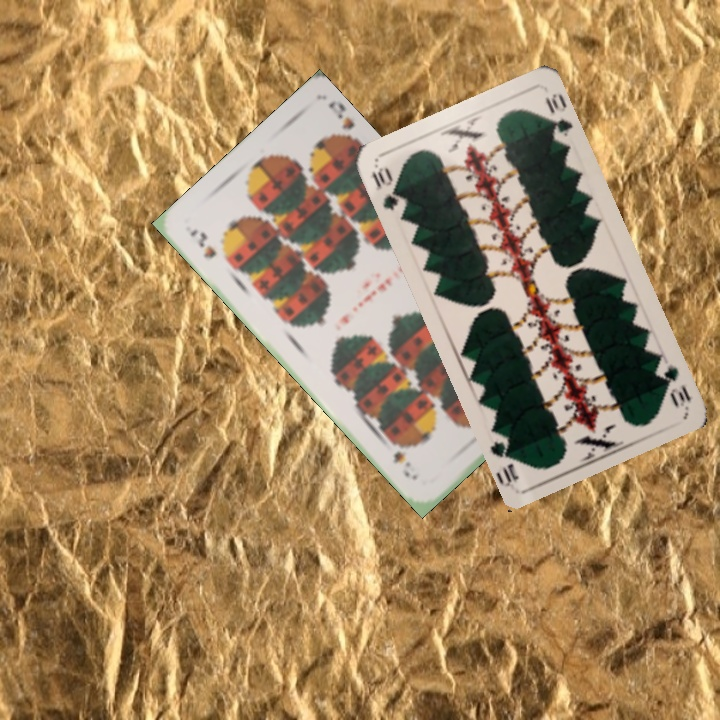G10: (652, 355, 694, 410), (367, 163, 404, 214)
S9: (186, 224, 219, 261)
